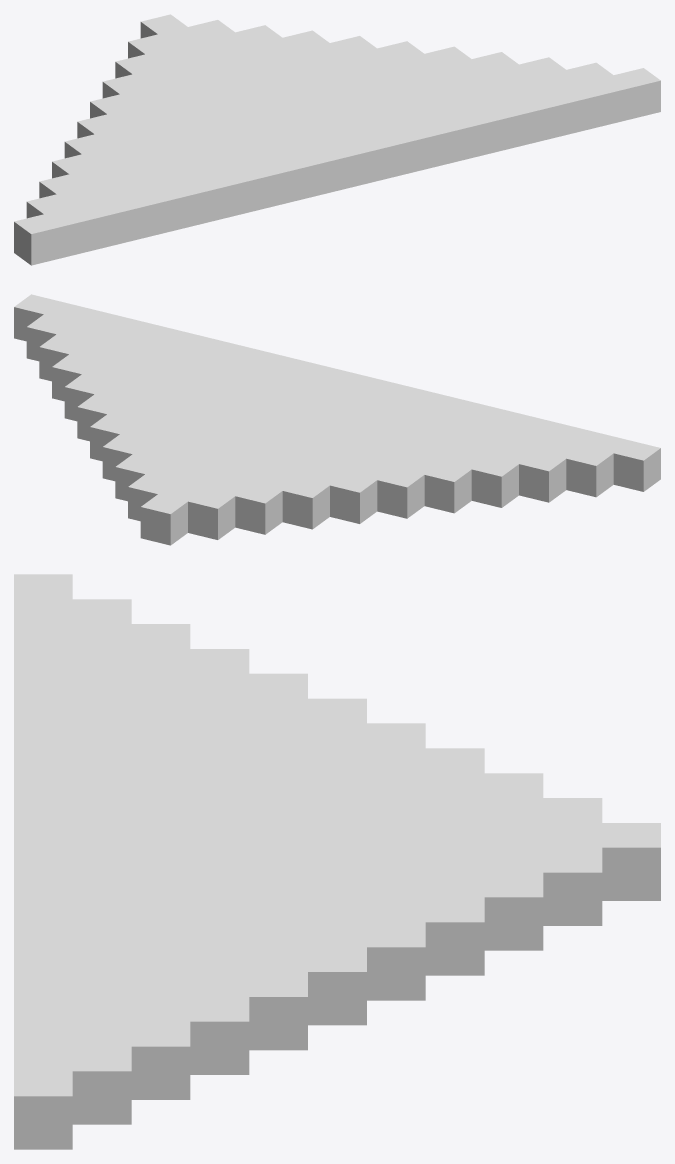
File: Arrow.obj
3 renders of one model, top to bottom at view 1: azimuth 30°, elevation 25°; view 2: azimuth 150°, elevation 25°; view 3: azimuth 270°, elevation 25°, orthographic. The views are drawn at different scales.
Visible parts, largest first — view 1: Arrow; view 2: Arrow; view 3: Arrow.
Boxes of the visible parts, x1=… form: Arrow: x1=14, y1=14, x2=660, y2=265; Arrow: x1=14, y1=294, x2=660, y2=545; Arrow: x1=14, y1=574, x2=660, y2=1149.
Size of the model in its own units: 21 by 1 by 11.
